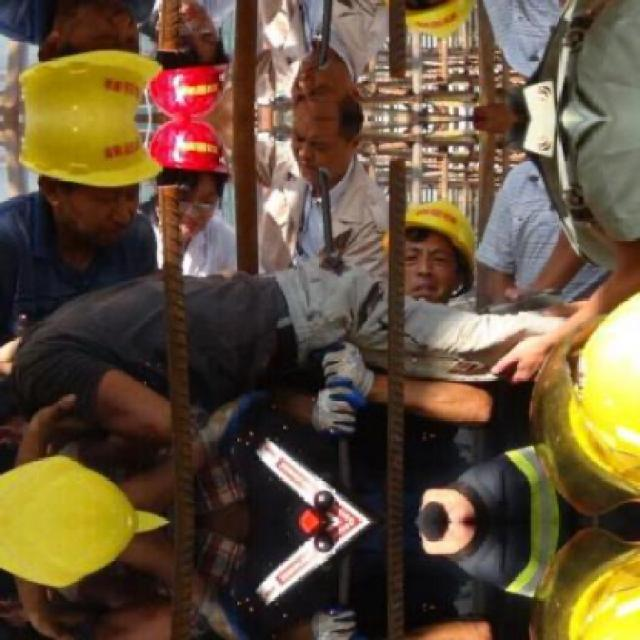helmet: (8, 117, 163, 251), (8, 0, 165, 118), (392, 185, 485, 302), (145, 120, 229, 203), (145, 31, 229, 114), (282, 117, 366, 183), (282, 53, 366, 119), (390, 0, 484, 51)
